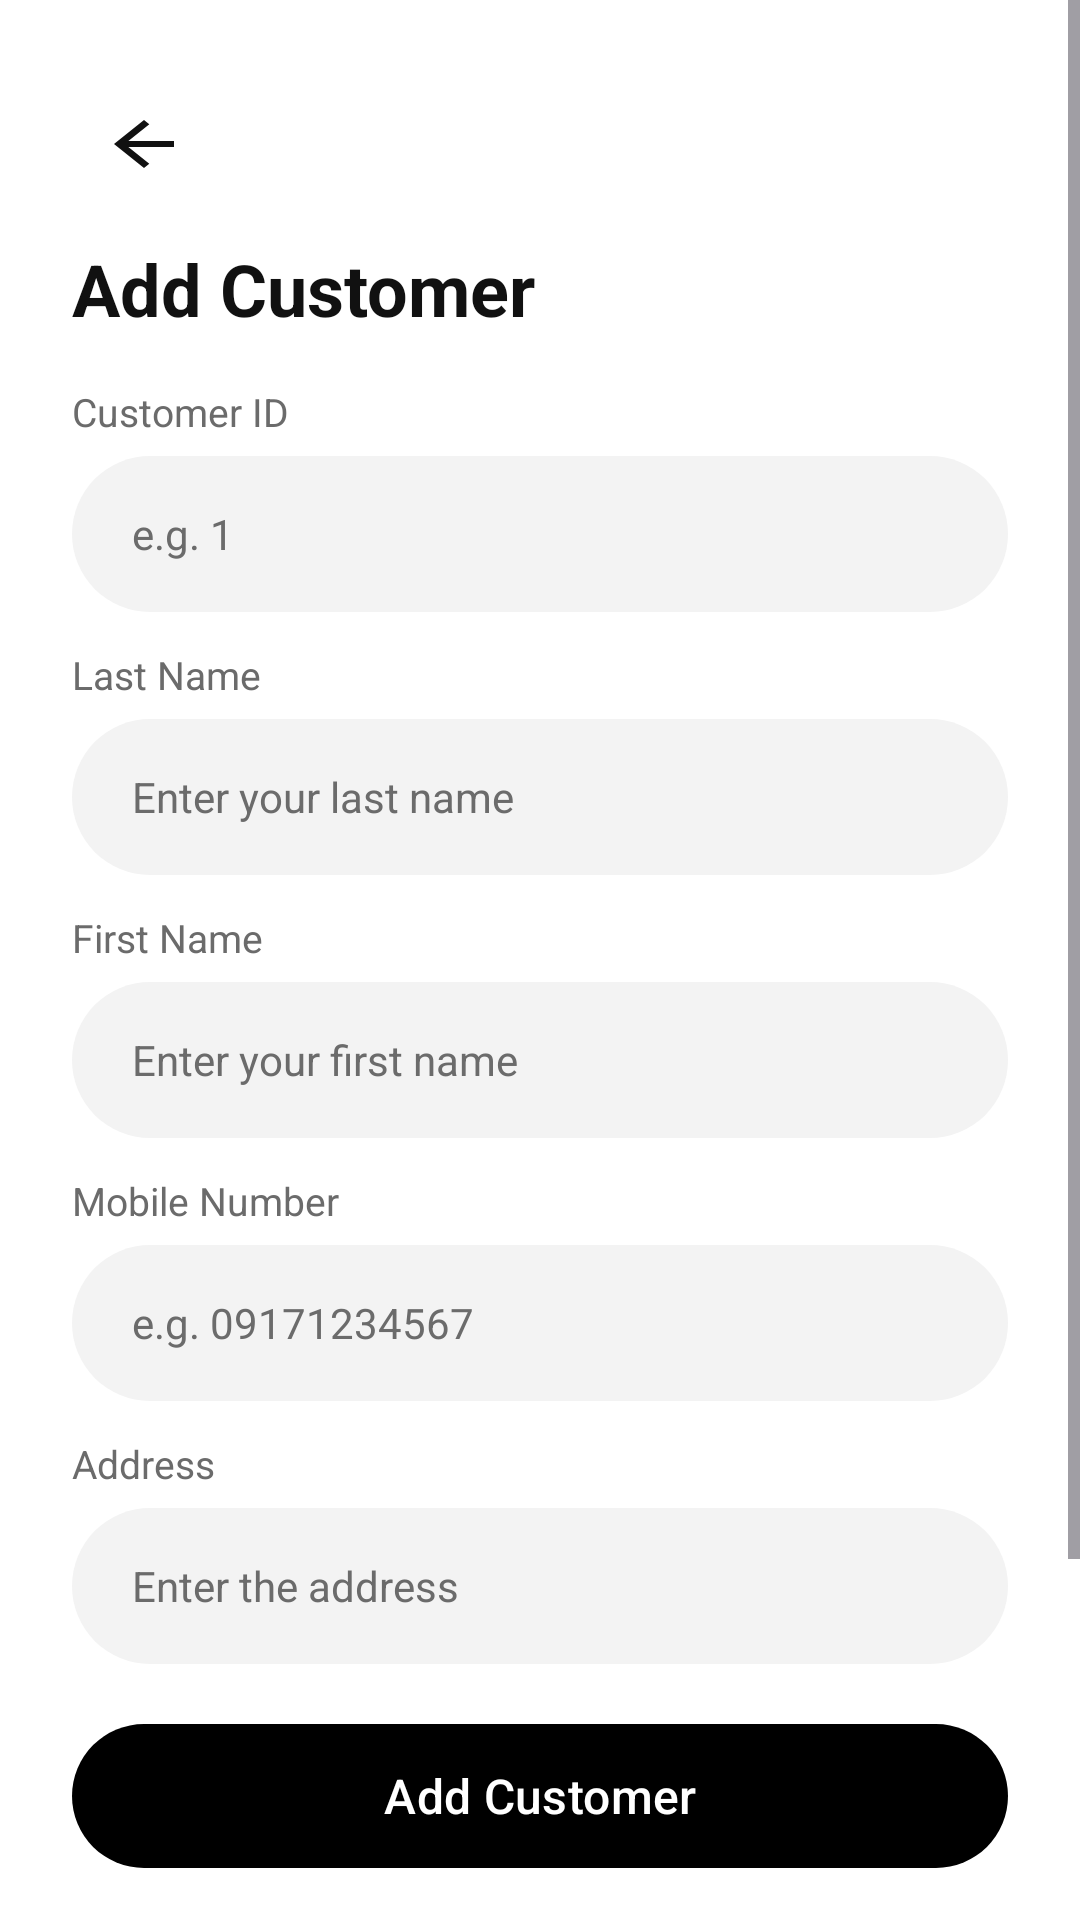

Where to tap for icons on this 1080*1920 app screen, as point (x, y):
Go back: point (144, 144)
